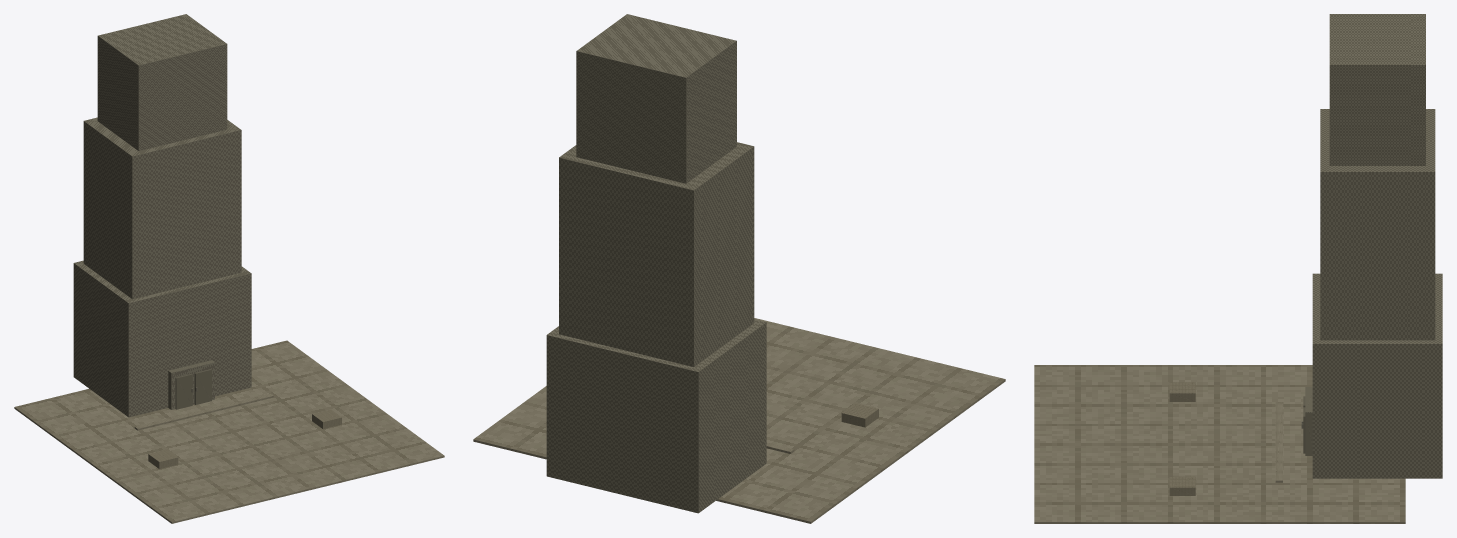
Rendered from tower_plaza.glb.
The picture shows the model from 3 angles, left to right: view 1: azimuth 30°, elevation 25°; view 2: azimuth 150°, elevation 25°; view 3: azimuth 270°, elevation 25°; orthographic projection. The views are drawn at different scales.
Visible parts, largest first — view 1: tower_plaza; view 2: tower_plaza; view 3: tower_plaza.
Part boxes in pixels (x1,y1,x2,y2): tower_plaza: [14, 14, 444, 523]; tower_plaza: [473, 14, 1005, 523]; tower_plaza: [1034, 14, 1442, 523].
Bounding box in the file's own units: 20 × 24.12 × 22.
Materials: 2 (2 with a texture image).
